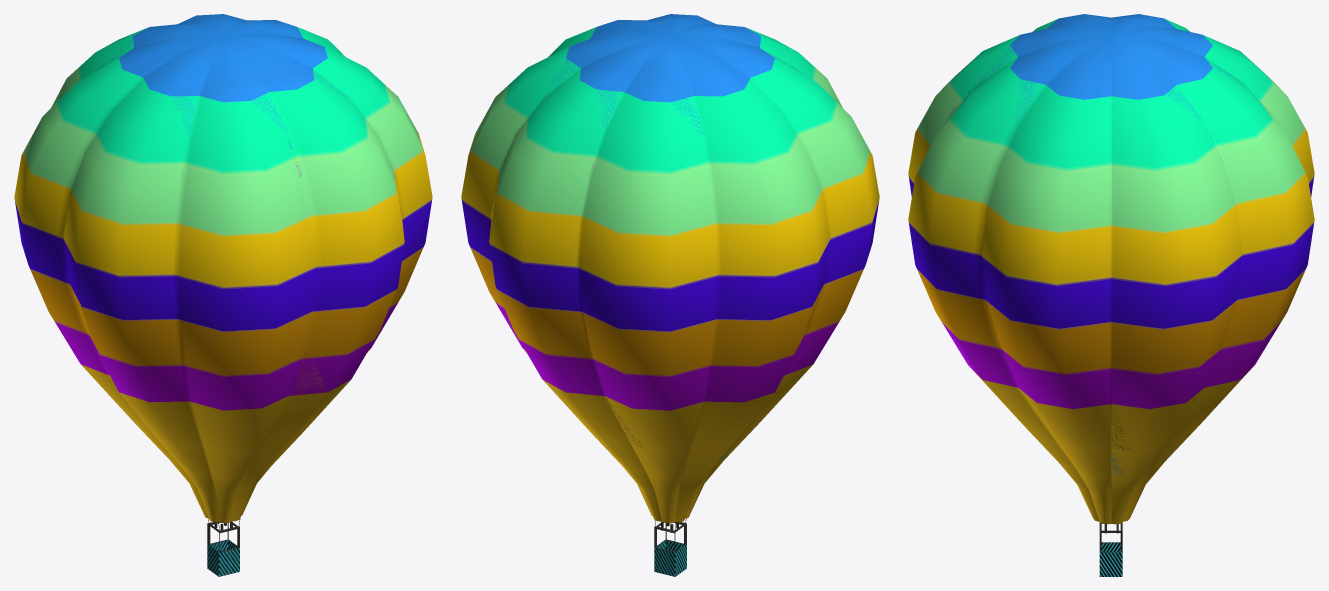
The model's file is HotAirBaloons_02.FBX.
3 views of the same model, side by side, from view 1: azimuth 30°, elevation 25°; view 2: azimuth 150°, elevation 25°; view 3: azimuth 270°, elevation 25° (orthographic).
Visible parts, largest first — view 1: Hotair_balloon_02, Hotair_balloon_01; view 2: Hotair_balloon_02, Hotair_balloon_01; view 3: Hotair_balloon_02.
Part boxes in pixels (left/top/right/bottom): Hotair_balloon_02: left=14, top=14, right=432, bottom=576; Hotair_balloon_01: left=99, top=20, right=344, bottom=394; Hotair_balloon_02: left=461, top=14, right=879, bottom=576; Hotair_balloon_01: left=543, top=54, right=784, bottom=133; Hotair_balloon_02: left=908, top=14, right=1314, bottom=576.
Size of the model in its own units: 11.69 by 17.03 by 11.69.
